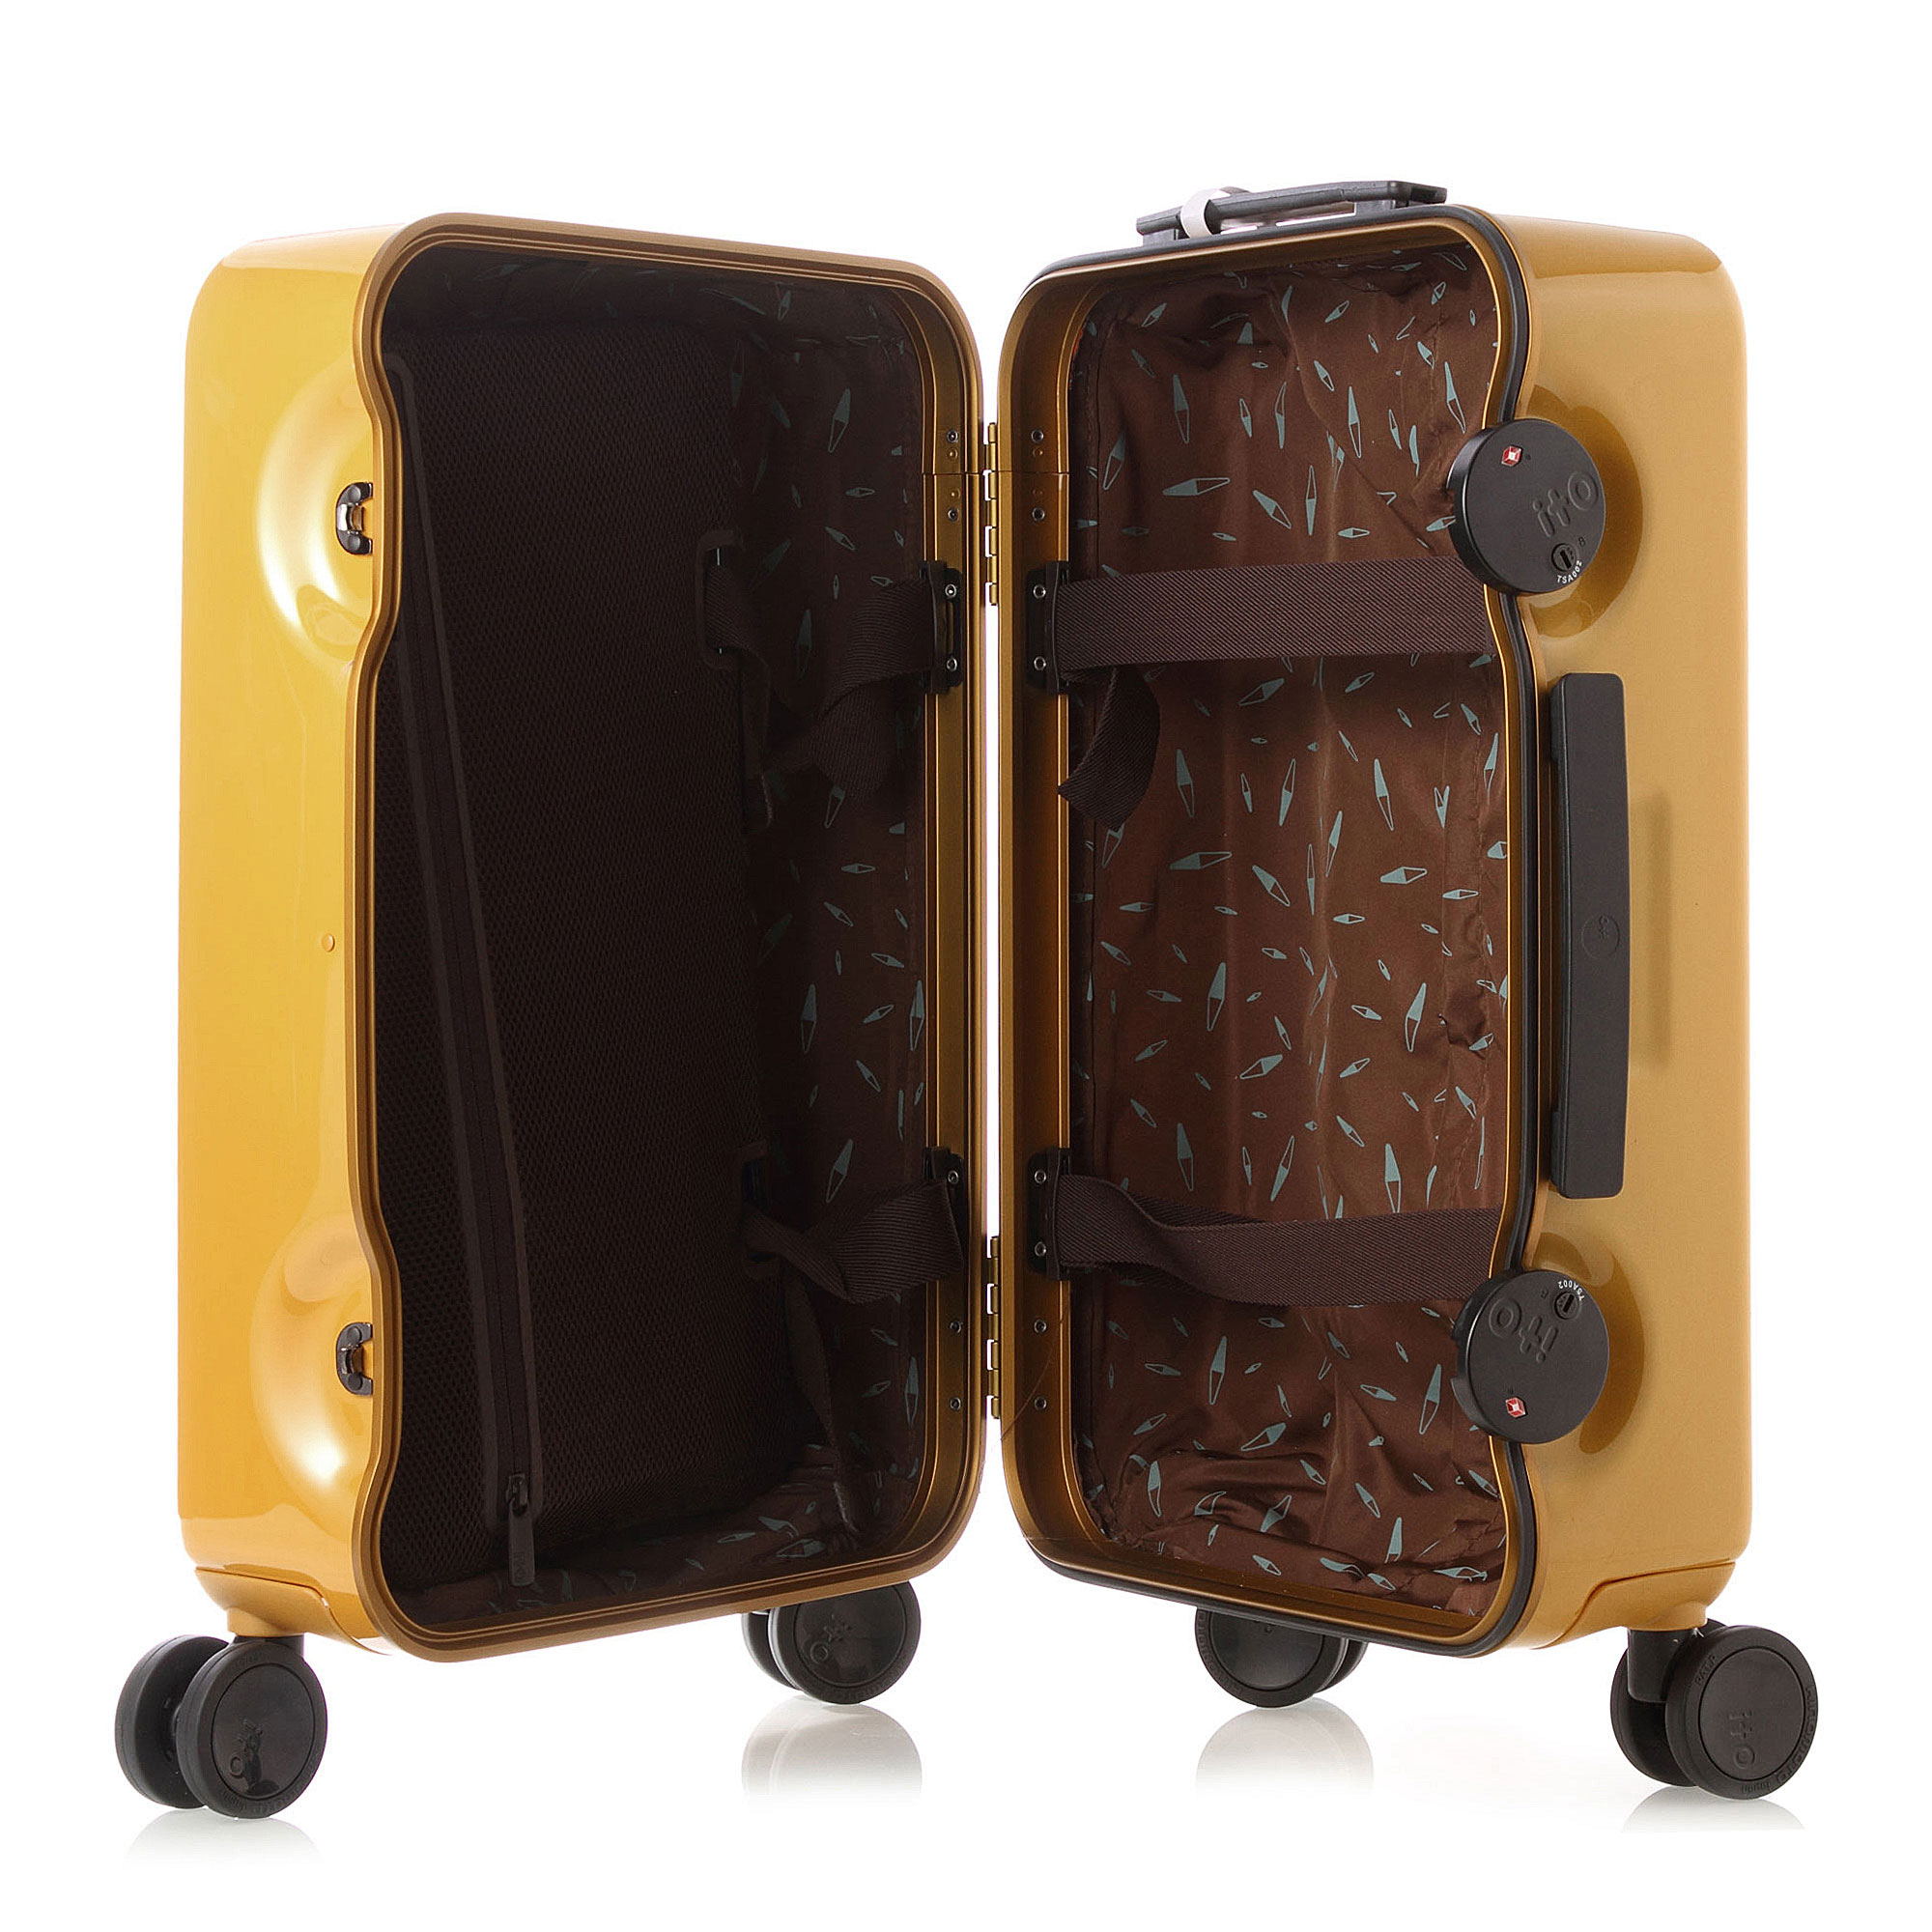suitcase: (110, 179, 1822, 1815)
